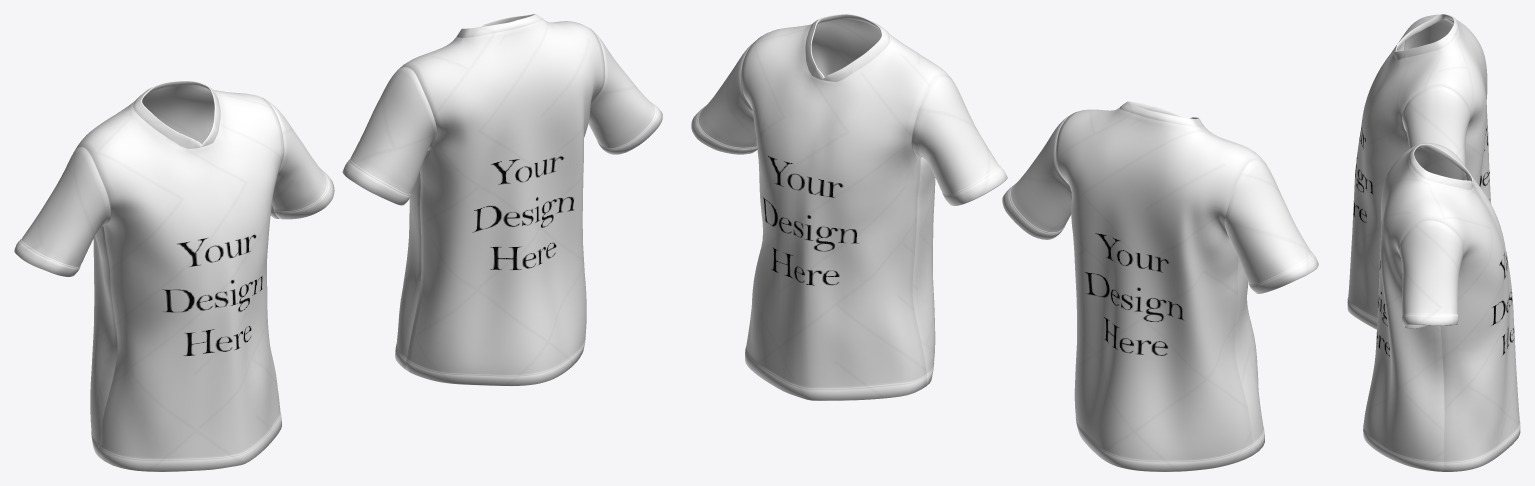
File: T-shirt A-1.glb
The picture shows the model from 3 angles, left to right: view 1: azimuth 30°, elevation 25°; view 2: azimuth 150°, elevation 25°; view 3: azimuth 270°, elevation 25°; orthographic projection. The views are drawn at different scales.
Visible parts, largest first — view 1: T-shirt procedural texture, T-shirt procedural texture.001; view 2: T-shirt procedural texture.001, T-shirt procedural texture; view 3: T-shirt procedural texture.001, T-shirt procedural texture.
Boxes of the visible parts, left/top/right/bottom form: T-shirt procedural texture: left=14, top=80, right=334, bottom=471; T-shirt procedural texture.001: left=342, top=14, right=662, bottom=386; T-shirt procedural texture.001: left=691, top=14, right=1007, bottom=400; T-shirt procedural texture: left=1002, top=101, right=1318, bottom=471; T-shirt procedural texture.001: left=1363, top=143, right=1520, bottom=471; T-shirt procedural texture: left=1347, top=14, right=1490, bottom=329.
Bounding box in the file's own units: 1.38 × 0.7167 × 0.3941.
Materials: 1 (1 with a texture image).
